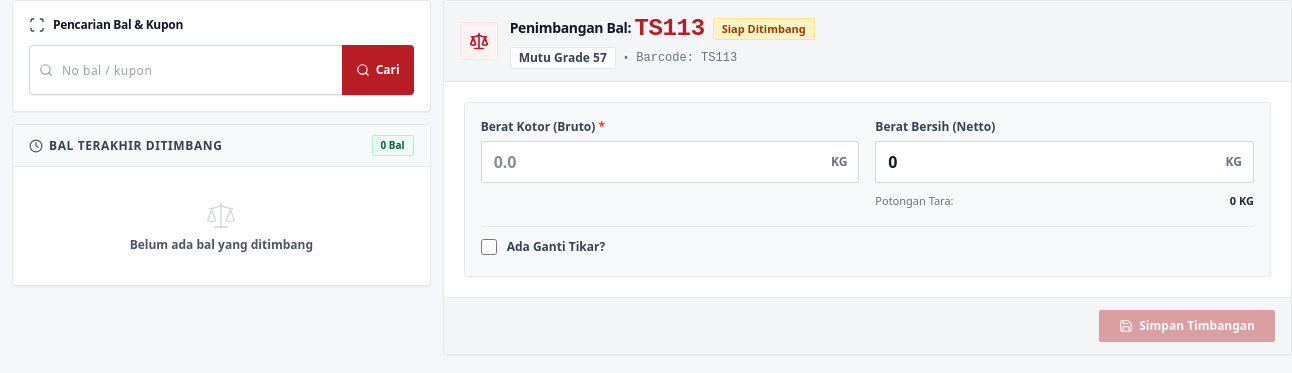
Timbangan: panel Penimbangan Bal tidak pernah terisi otomatis › setelah menyimpan berat, panel kembali kosong dan bal berikutnya TIDAK dipilih otomatis
The image size is (1292, 373).
Type "34" into the number field with placeholder "0.0" at (670, 162), box [481,141,859,183]
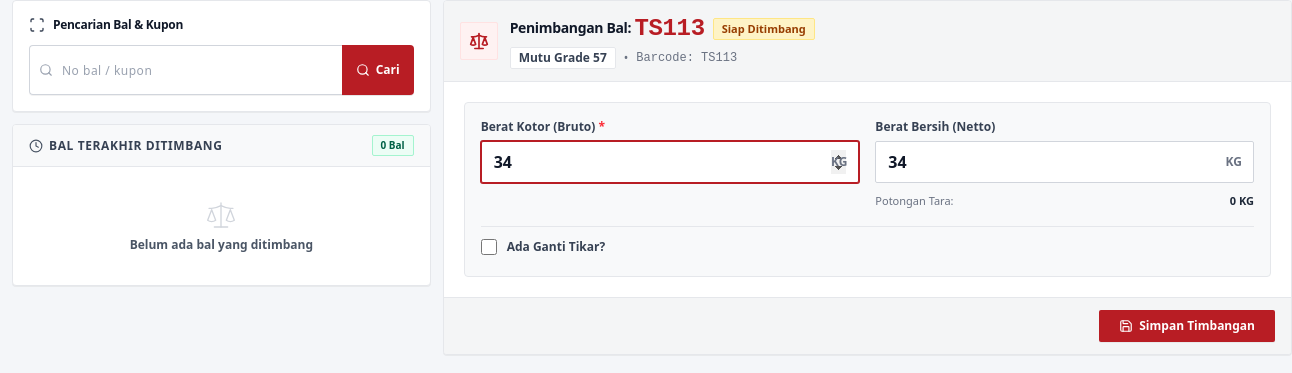
Click the button "Simpan Timbangan" at (1187, 326), box [1099,310,1275,342]
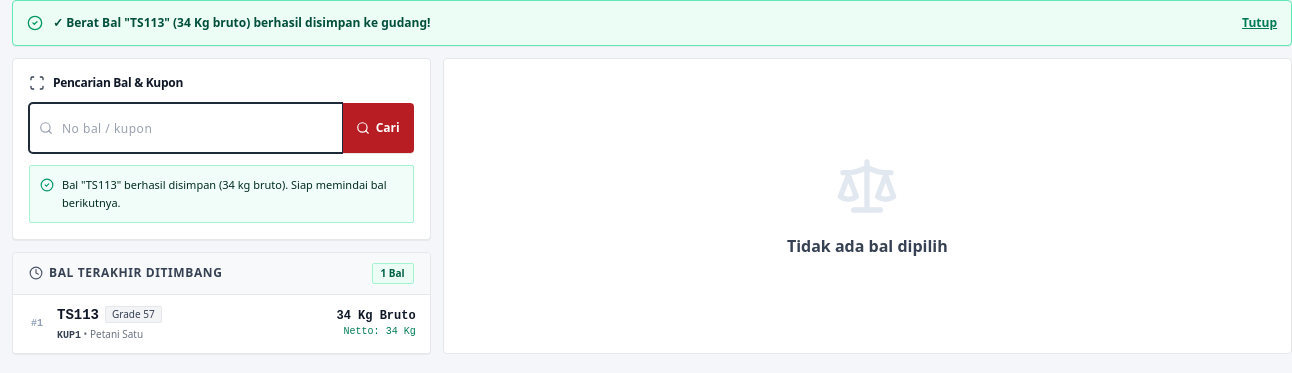
expect the heading "Tidak ada bal dipilih" is shown: met, box [787,234,948,258]
expect the heading "Penimbangan Bal:" is gone: met
expect the text "Siap Ditimbang" is gone: met
